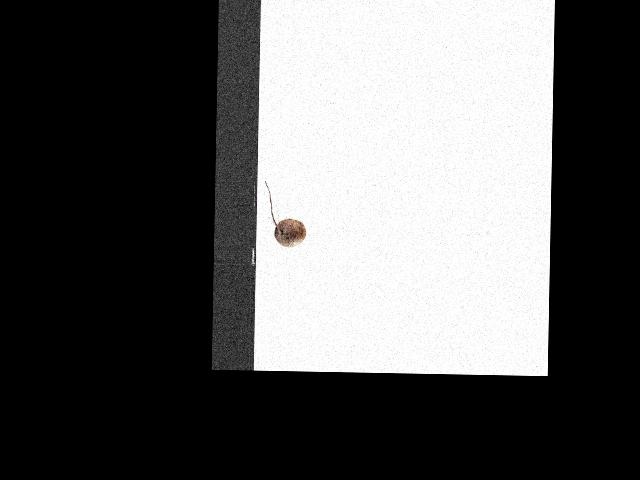beet: (263, 180, 306, 247)
